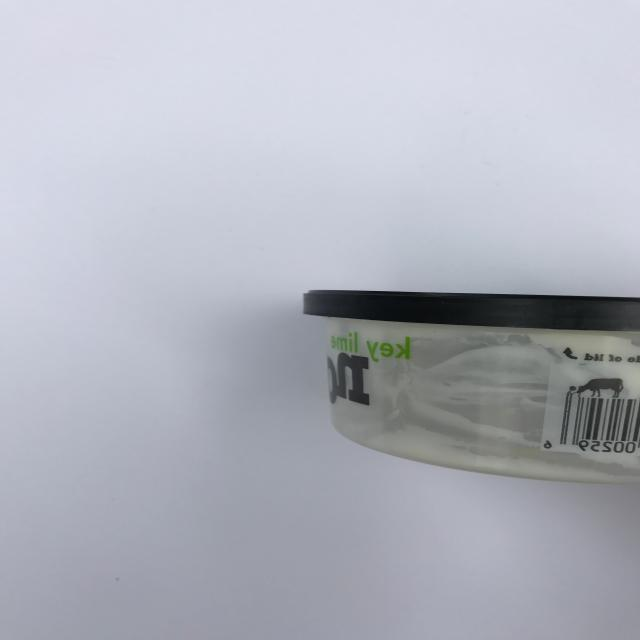plastic: (303, 289, 640, 485)
